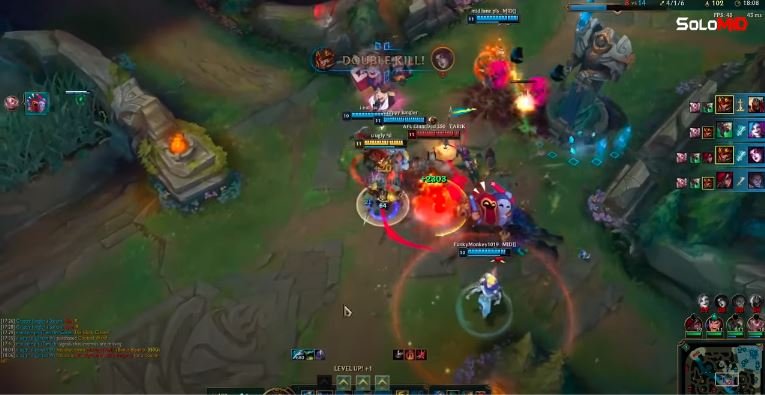bar: (354, 136, 410, 150), (458, 246, 513, 259), (406, 127, 461, 139), (464, 13, 519, 24), (374, 114, 428, 125), (341, 110, 396, 120)
